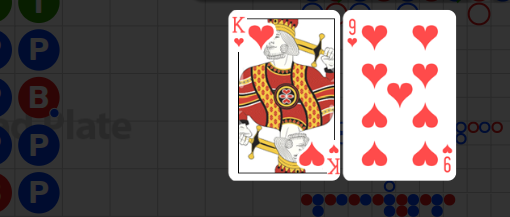9H: (440, 142, 454, 174)
KH: (231, 15, 246, 48)
